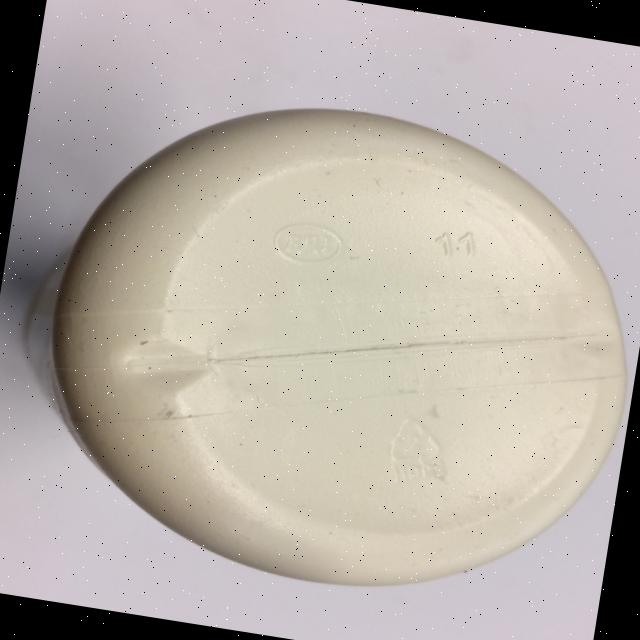plastic: (16, 67, 640, 626)
